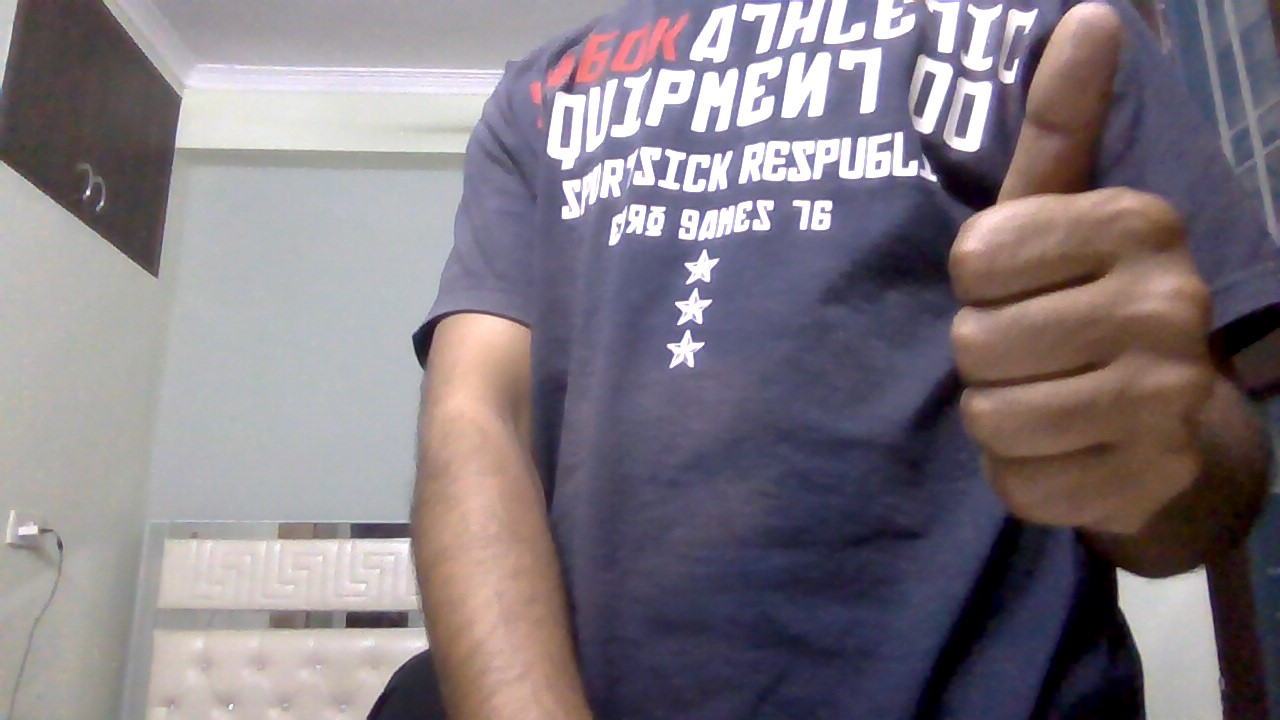Save: (934, 1, 1215, 553)
